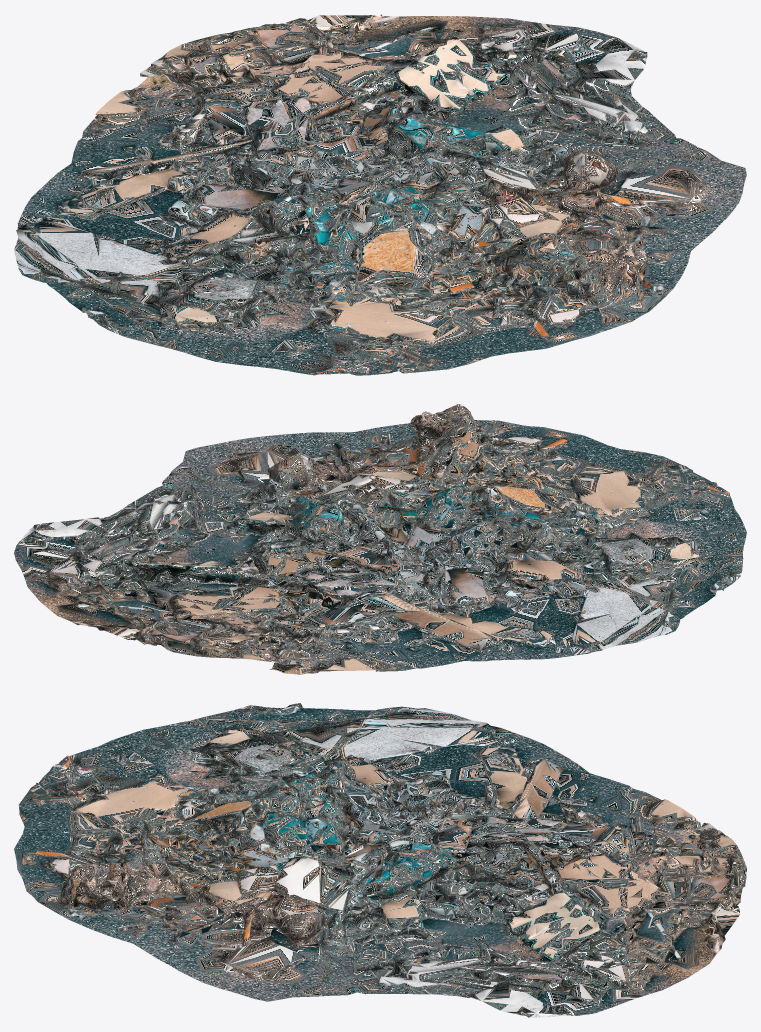
Rendered from rubbish.glb.
The picture shows the model from 3 angles, top to bottom: view 1: azimuth 30°, elevation 25°; view 2: azimuth 150°, elevation 25°; view 3: azimuth 270°, elevation 25°; orthographic projection. The views are drawn at different scales.
Size of the model in its own units: 2.43 by 0.1997 by 2.39.
1 material, 1 textured.
